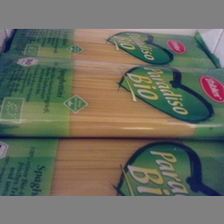pasta: (1, 53, 224, 139), (1, 136, 224, 195), (4, 30, 219, 66)
